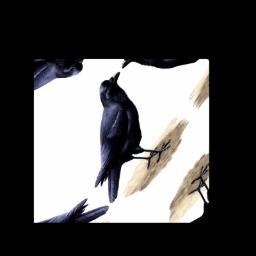Crow: (44, 67, 193, 212)
